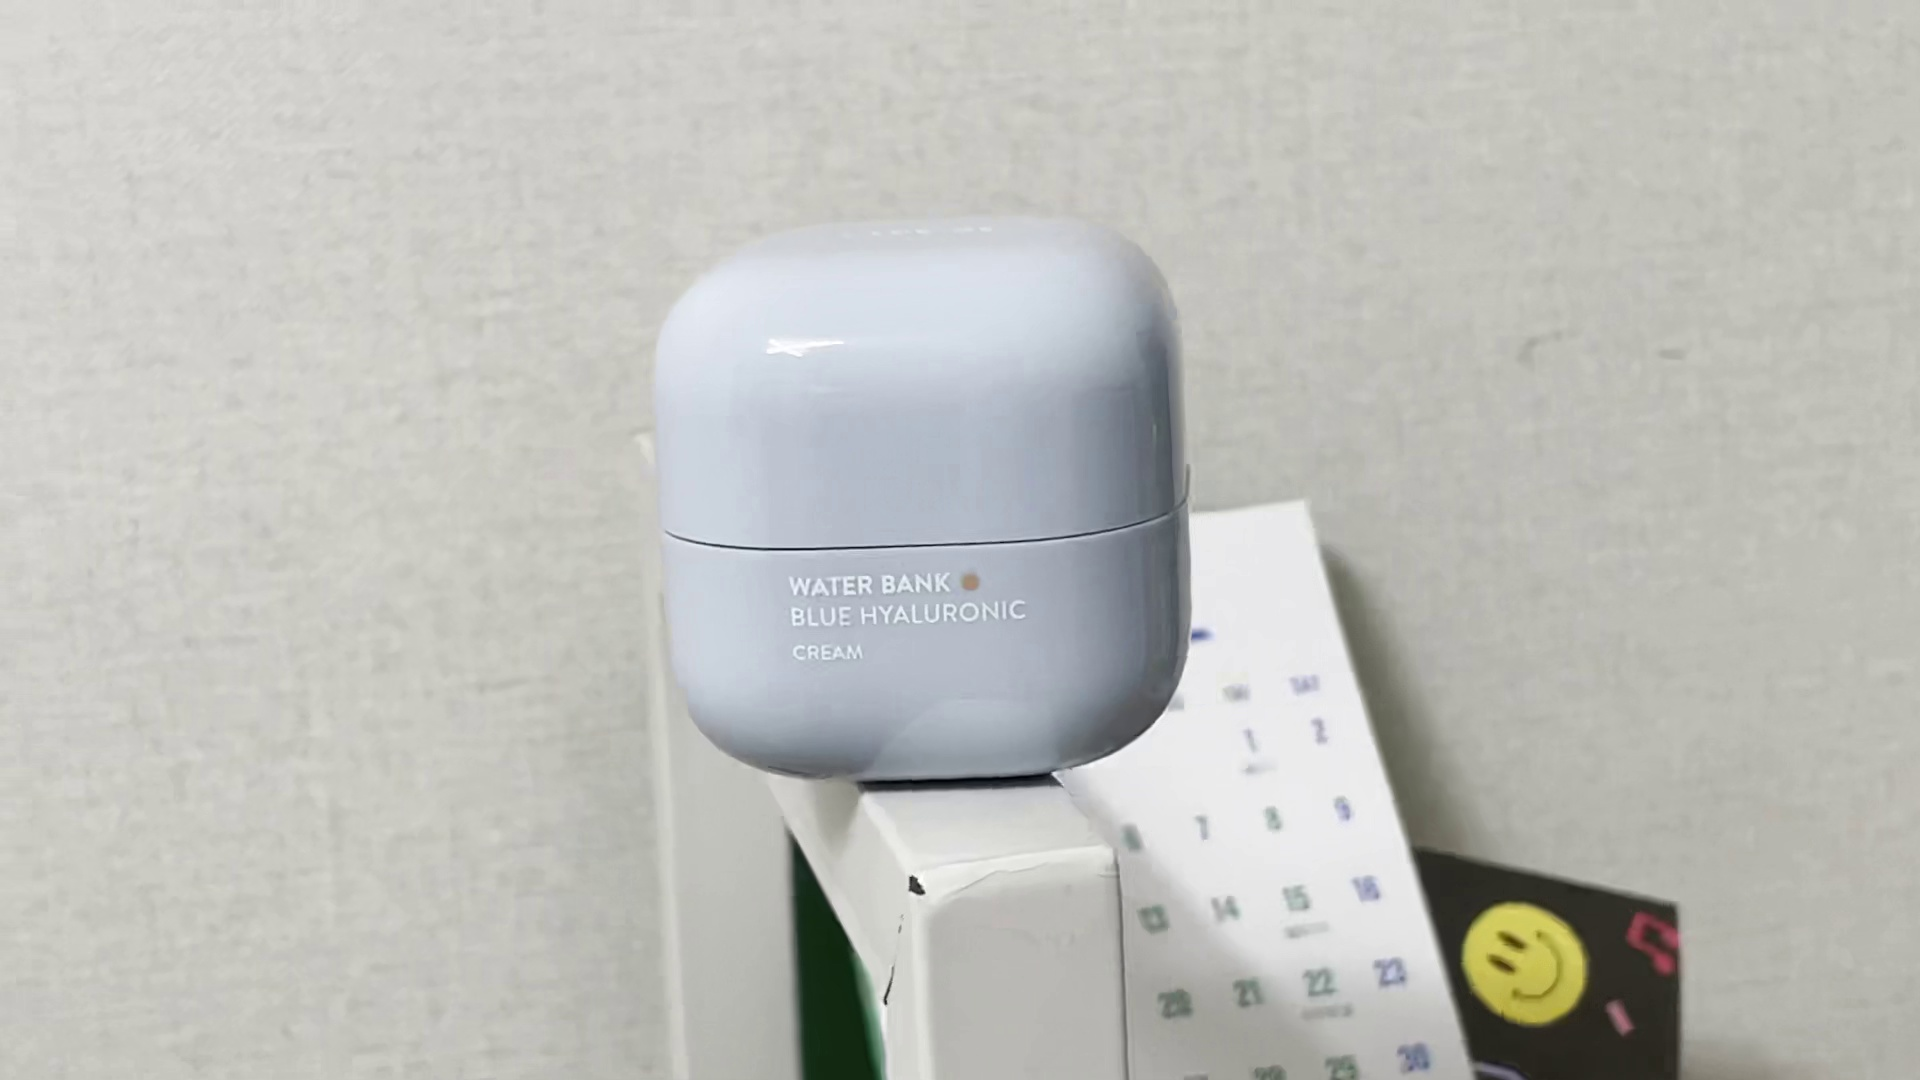cream: (647, 208, 1195, 781)
